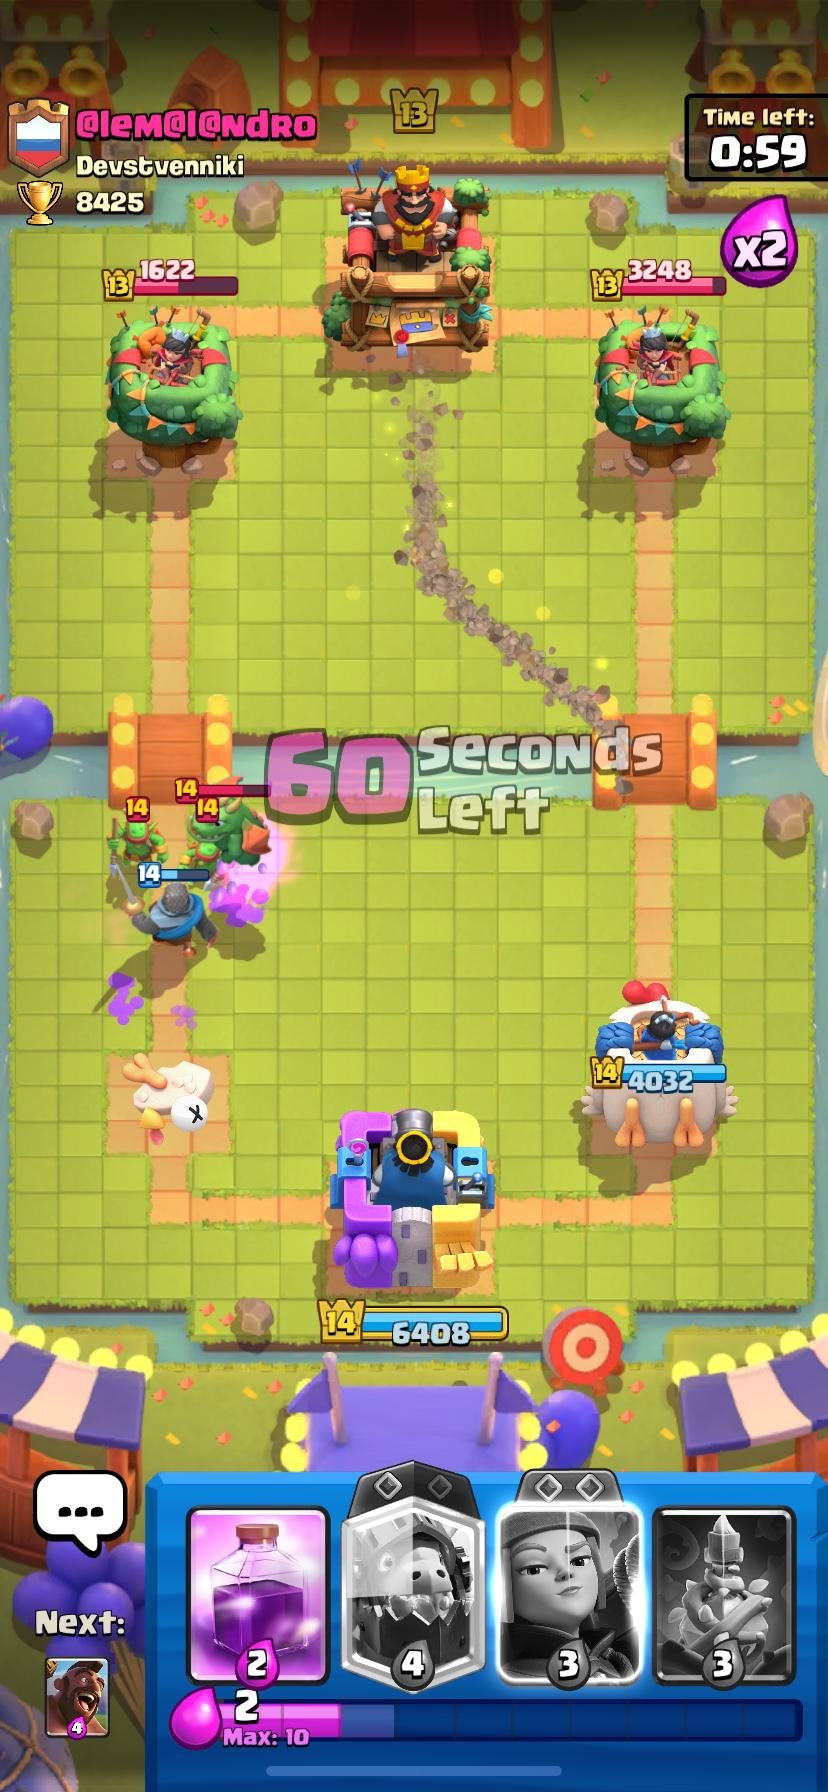EBabyDrag: (194, 795, 268, 864)
EKingTower: (323, 165, 491, 357)
ESpearGoblin: (108, 817, 167, 865), (180, 837, 218, 879)
EnemyPrincessTower: (595, 311, 729, 473), (108, 310, 241, 466)
OKnight: (132, 881, 217, 944)
OwnKingTower: (331, 1109, 493, 1289)
OwnPrincessTower: (582, 982, 735, 1147)
TowerDown: (108, 1051, 229, 1159)
